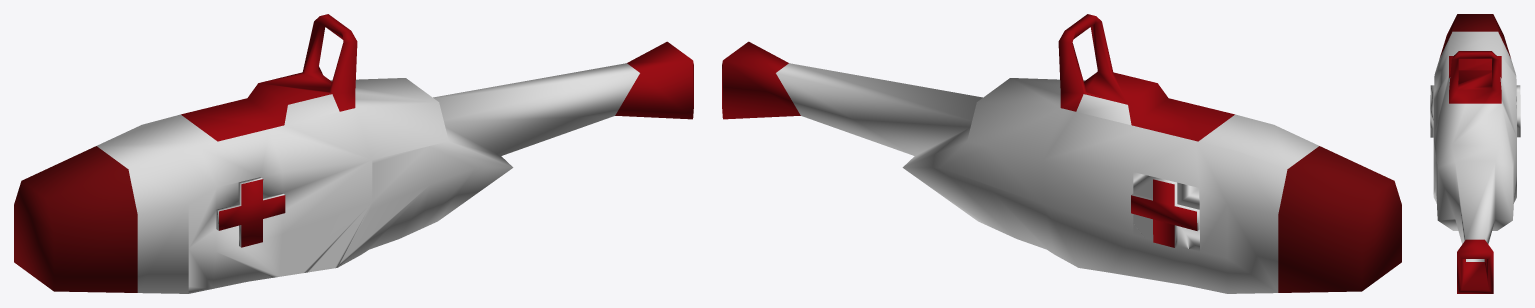
The model's file is gunFINAL.fbx.
3 views of the same model, side by side, from view 1: azimuth 30°, elevation 25°; view 2: azimuth 150°, elevation 25°; view 3: azimuth 270°, elevation 25° (orthographic). The views are drawn at different scales.
Visible parts, largest first — view 1: Cube; view 2: Cube; view 3: Cube.
Part boxes in pixels (<box>): Cube: <box>14,14,693,293</box>; Cube: <box>722,14,1401,293</box>; Cube: <box>1430,14,1520,293</box>.
Size of the model in its own units: 1423 by 456 by 241.
